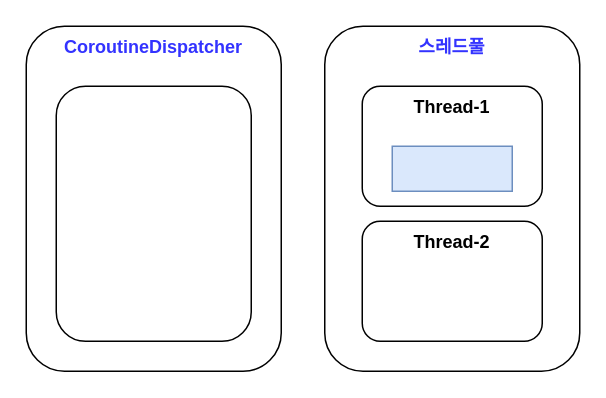
This 606x398 diagram has some shape labels left out. The centre of each missing label's shape, as x and y in pixels:
"Coroutine1" belongs at [451,168].
"작업 대기열" belongs at [153,213].
